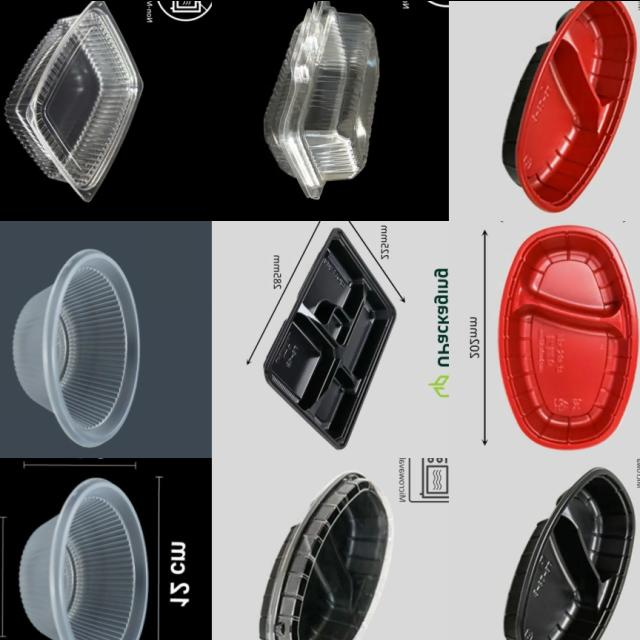plastik: (499, 225, 639, 448), (264, 227, 396, 448), (504, 0, 636, 211), (5, 0, 143, 200), (13, 248, 140, 447), (264, 0, 379, 198), (505, 468, 635, 640), (261, 472, 393, 640), (20, 477, 148, 640)
